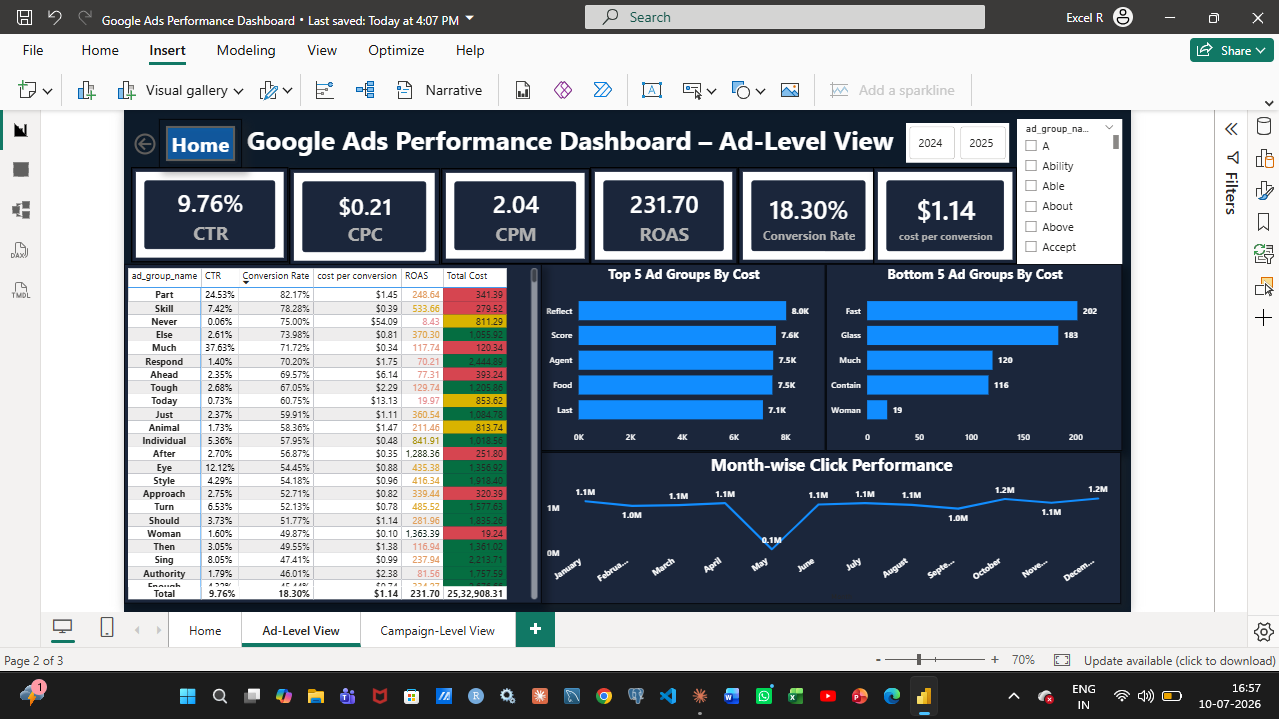

The dashboard page shown, as its layout file describes it:
{"tool":"powerbi","page":{"name":"Ad-Level View","canvas":[1445,720],"ordinal":1},"visuals":[{"type":"textbox","box":[9.6,12.7,1260,70.1],"z":0},{"type":"cardVisual","fields":{"Data":["Google Add Data.CTR"]},"box":[10.7,82,226.3,137.2],"z":1000},{"type":"cardVisual","fields":{"Data":["Google Add Data.CPC"]},"box":[237.3,82.8,216.6,140.2],"z":2000},{"type":"cardVisual","fields":{"Data":["Google Add Data.CPM"]},"box":[454.7,83.2,213.7,137.7],"z":3000},{"type":"cardVisual","fields":{"Data":["Google Add Data.ROAS"]},"box":[669,81.2,211.9,140.2],"z":4000},{"type":"cardVisual","fields":{"Data":["Google Add Data.Conversion Rate"]},"box":[880.9,81.2,202.3,140.2],"z":5000},{"type":"cardVisual","fields":{"Data":["Google Add Data.cost per conversion"]},"box":[1073.6,81.2,207.1,140.2],"z":6000},{"type":"clusteredBarChart","title":"Top 5 Ad Groups By Cost","fields":{"Category":["Google Add Data.ad_group_name"],"Y":["Google Add Data.Total Cost"]},"box":[598.7,221.4,407.9,268],"z":7000},{"type":"clusteredBarChart","title":"Bottom 5 Ad Groups By Cost","fields":{"Category":["Google Add Data.ad_group_name"],"Y":["Google Add Data.Total Cost"]},"box":[1006.5,221.4,425.3,268],"z":8000},{"type":"lineChart","title":"Month-wise Click Performance","fields":{"Category":["datetable.Month"],"Y":["Sum(Google Add Data.ad_clicks)"]},"box":[598.7,490.9,831.7,218.5],"z":9000},{"type":"advancedSlicerVisual","fields":{"Values":["datetable.Year"]},"box":[1121.4,19.1,148.1,57.3],"z":10000},{"type":"pivotTable","fields":{"Values":["Google Add Data.CTR","Google Add Data.Conversion Rate","Google Add Data.cost per conversion","Google Add Data.ROAS","Google Add Data.Total Cost"],"Rows":["Google Add Data.ad_group_name"]},"box":[0,221.4,598.7,486.5],"z":11000},{"type":"slicer","fields":{"Values":["Google Add Data.ad_group_name"]},"box":[1281.1,12.5,151.4,208.5],"z":12000},{"type":"actionButton","box":[50.2,12.9,119,70.3],"z":13000},{"type":"actionButton","box":[10,28.7,40.2,40.2],"z":15000}]}

Visuals, with their boxes on the page's 1445x720 design canvas (x1, y1, x2, y2). These are canvas units, not pixel positions in the 1279x719 screenshot, which may show the page scaled, cropped or inside an application window:
textbox: bbox(10, 13, 1270, 83)
cardVisual - Google Add Data.CTR: bbox(11, 82, 237, 219)
cardVisual - Google Add Data.CPC: bbox(237, 83, 454, 223)
cardVisual - Google Add Data.CPM: bbox(455, 83, 668, 221)
cardVisual - Google Add Data.ROAS: bbox(669, 81, 881, 221)
cardVisual - Google Add Data.Conversion Rate: bbox(881, 81, 1083, 221)
cardVisual - Google Add Data.cost per conversion: bbox(1074, 81, 1281, 221)
"Top 5 Ad Groups By Cost" clusteredBarChart: bbox(599, 221, 1007, 489)
"Bottom 5 Ad Groups By Cost" clusteredBarChart: bbox(1006, 221, 1432, 489)
"Month-wise Click Performance" lineChart: bbox(599, 491, 1430, 709)
advancedSlicerVisual - datetable.Year: bbox(1121, 19, 1270, 76)
pivotTable - Google Add Data.CTR x Google Add Data.Conversion Rate: bbox(0, 221, 599, 708)
slicer - Google Add Data.ad_group_name: bbox(1281, 12, 1432, 221)
actionButton: bbox(50, 13, 169, 83)
actionButton: bbox(10, 29, 50, 69)
